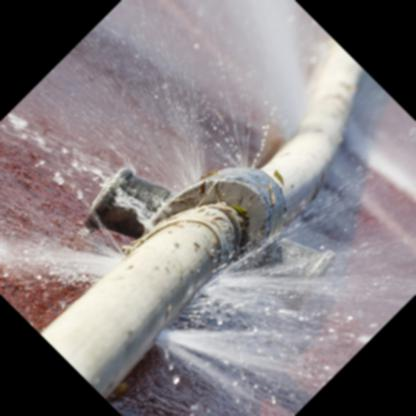burst: (110, 133, 304, 382)
